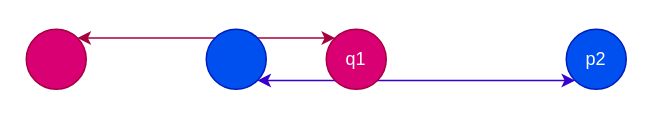
The diagram is 653 pixels wide and 122 high, and some of its shapes have lost their labels. The shapes that lost their labels are listed below. From the top down, each one's centre as x and y in pixels, then its label:
pixel 55 58: p1
pixel 235 58: q2
